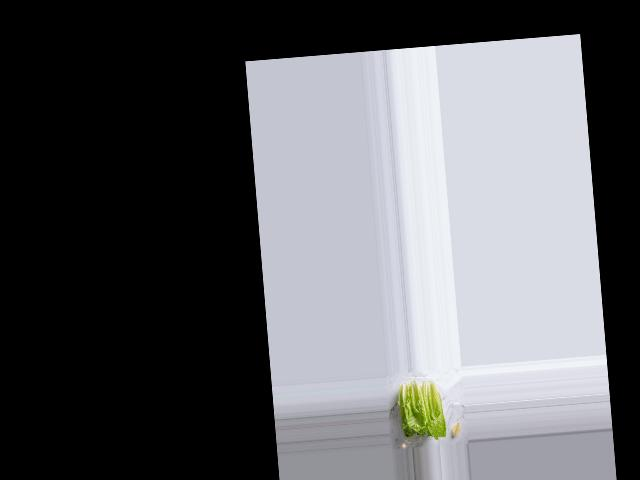lettuce: (394, 378, 449, 443)
